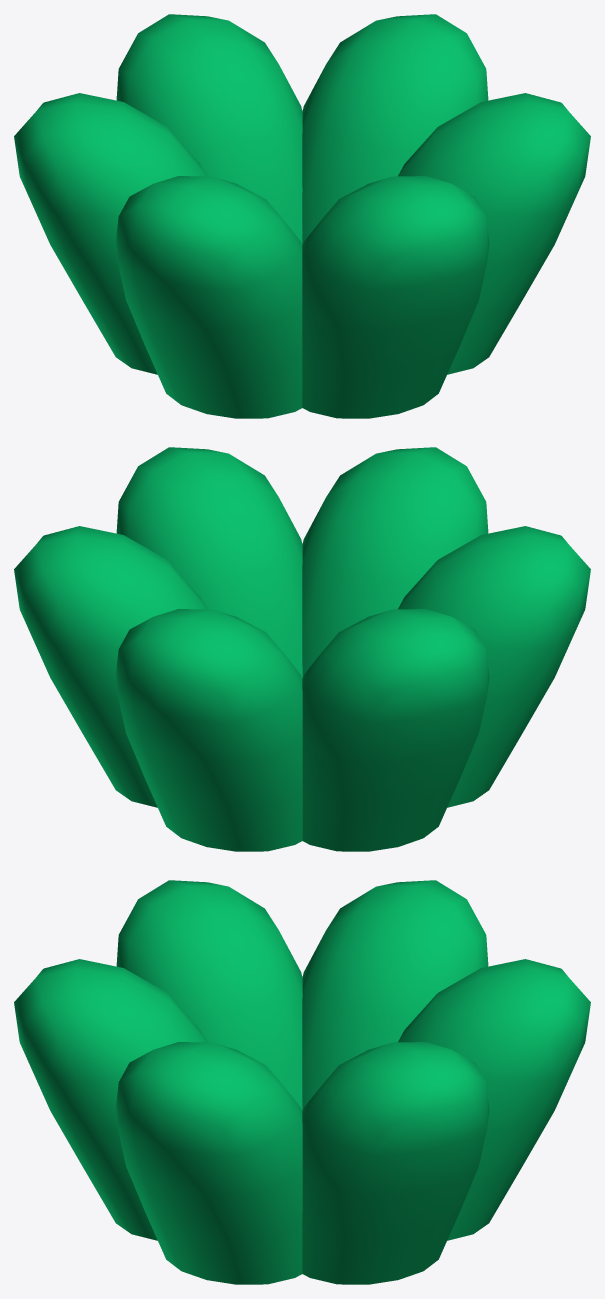
Rendered from Town_8_Plant_1.glb.
3 views of the same model, one above another, from view 1: azimuth 30°, elevation 25°; view 2: azimuth 150°, elevation 25°; view 3: azimuth 270°, elevation 25° (orthographic).
Parts seen in each view (by area): view 1: Town_8_Plant_1; view 2: Town_8_Plant_1; view 3: Town_8_Plant_1.
Boxes of the visible parts, x1=… form: Town_8_Plant_1: x1=14, y1=14, x2=590, y2=418; Town_8_Plant_1: x1=14, y1=447, x2=590, y2=851; Town_8_Plant_1: x1=14, y1=880, x2=590, y2=1284.
Size of the model in its own units: 0.267 by 0.1366 by 0.2968.
1 material, 1 textured.
